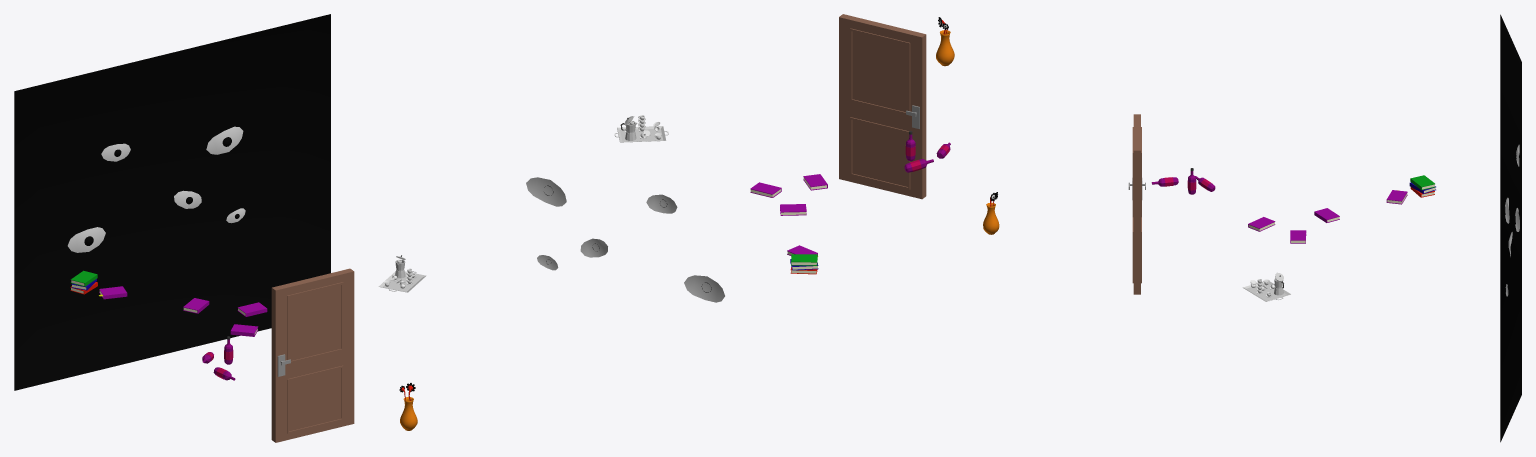
Rendered from erros.fbx.
3 renders of one model, left to right at view 1: azimuth 30°, elevation 25°; view 2: azimuth 150°, elevation 25°; view 3: azimuth 270°, elevation 25°, orthographic. The views are drawn at different scales.
Visible parts, largest first — view 1: OLHOS, PortaExtra, LivrosJogados, BandejaCaotica, LivroDeArrombado, VasoOlhudo, Garrafas; view 2: PortaExtra, OLHOS, BandejaCaotica, LivrosJogados, LivroDeArrombado, Garrafas, VasoOlhudo; view 3: OLHOS, PortaExtra, BandejaCaotica, LivrosJogados, LivroDeArrombado, Garrafas.
Boxes of the visible parts, <box> form: OLHOS: <box>14,14,330,390</box>; PortaExtra: <box>271,268,354,442</box>; LivrosJogados: <box>183,298,267,336</box>; BandejaCaotica: <box>378,255,426,292</box>; LivroDeArrombado: <box>70,270,127,299</box>; VasoOlhudo: <box>399,383,417,430</box>; Garrafas: <box>202,336,235,380</box>; PortaExtra: <box>839,14,926,199</box>; OLHOS: <box>526,177,724,302</box>; BandejaCaotica: <box>614,115,668,142</box>; LivrosJogados: <box>750,174,827,215</box>; LivroDeArrombado: <box>787,245,818,274</box>; Garrafas: <box>904,131,950,172</box>; VasoOlhudo: <box>936,17,954,66</box>; OLHOS: <box>1500,14,1521,442</box>; PortaExtra: <box>1128,114,1145,294</box>; BandejaCaotica: <box>1242,272,1290,301</box>; LivrosJogados: <box>1248,208,1339,243</box>; LivroDeArrombado: <box>1386,175,1435,204</box>; Garrafas: <box>1151,168,1215,194</box>.
Size of the model in its own units: 403 by 365 by 630.
